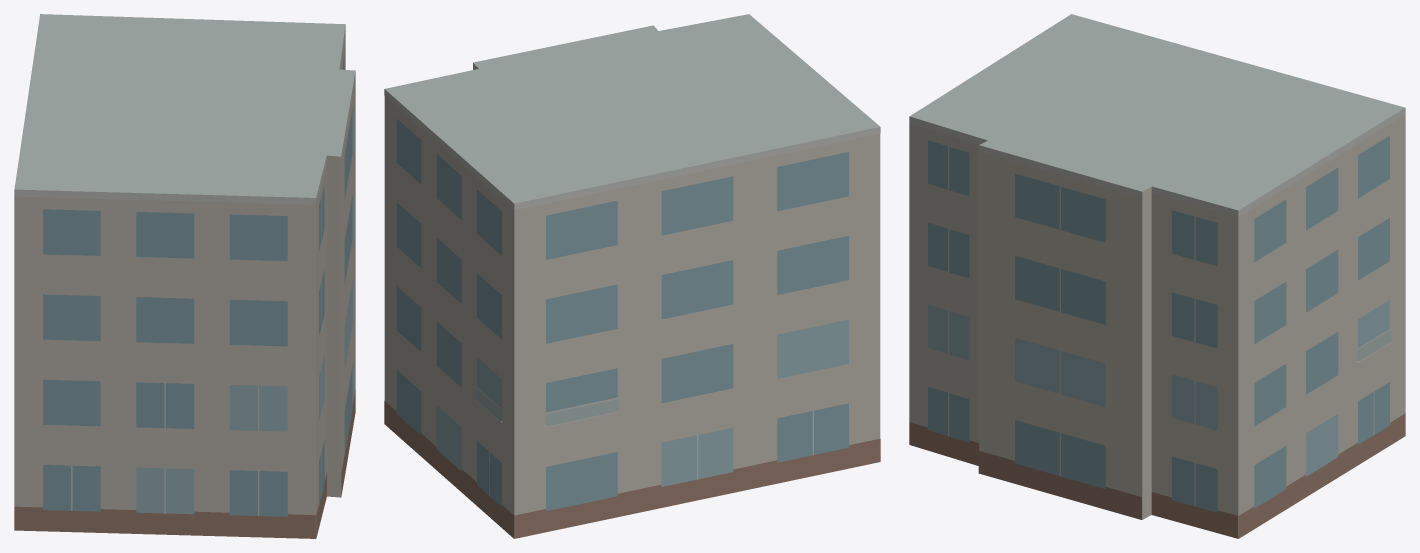
Rendered from survey-upis-32956120.glb.
3 views of the same model, side by side, from view 1: azimuth 30°, elevation 25°; view 2: azimuth 150°, elevation 25°; view 3: azimuth 270°, elevation 25° (orthographic). The views are drawn at different scales.
Visible parts, largest first — view 1: survey-upis-32956120.tmp; view 2: survey-upis-32956120.tmp; view 3: survey-upis-32956120.tmp.
Boxes of the visible parts, <box> form: survey-upis-32956120.tmp: <box>14,14,355,538</box>; survey-upis-32956120.tmp: <box>384,14,880,538</box>; survey-upis-32956120.tmp: <box>909,14,1405,538</box>.
Size of the model in its own units: 15.66 by 12.2 by 16.71.
